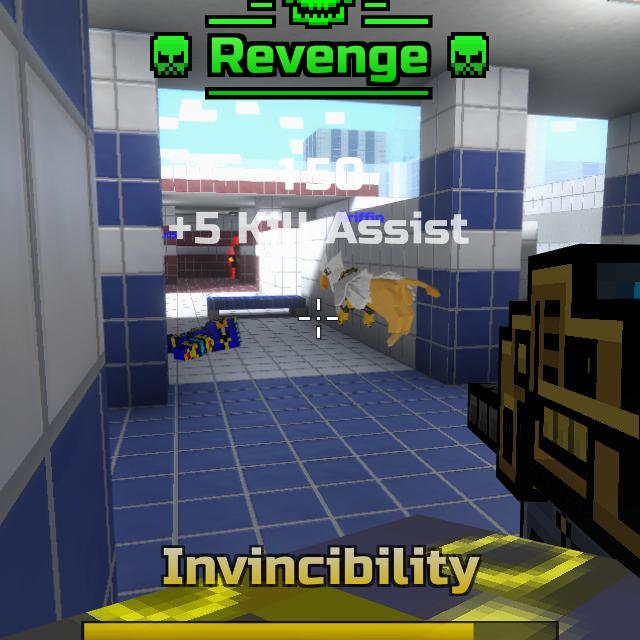Enemy: (229, 244, 240, 279)
